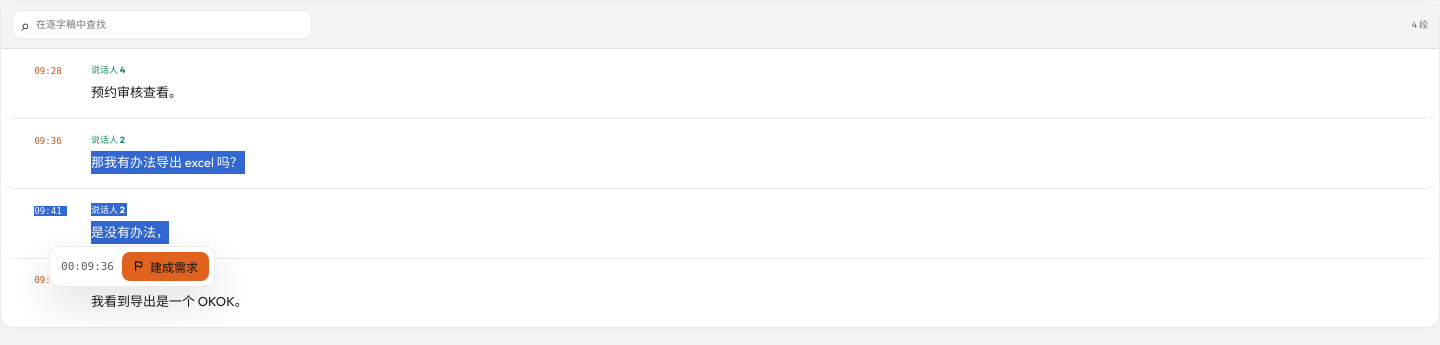
Test: TranscriptPanel 选中一段建成需求（R01-10） › 跨了两句：原话取选中的文字（不带时间和说话人），时间锚取第一句的开始
Check: the element named "选中的原话" shows "00:09:36", box left=61, top=260, right=114, bottom=272
Click the button "建成需求". click: click(166, 266)
box: left=122, top=252, right=209, bottom=280
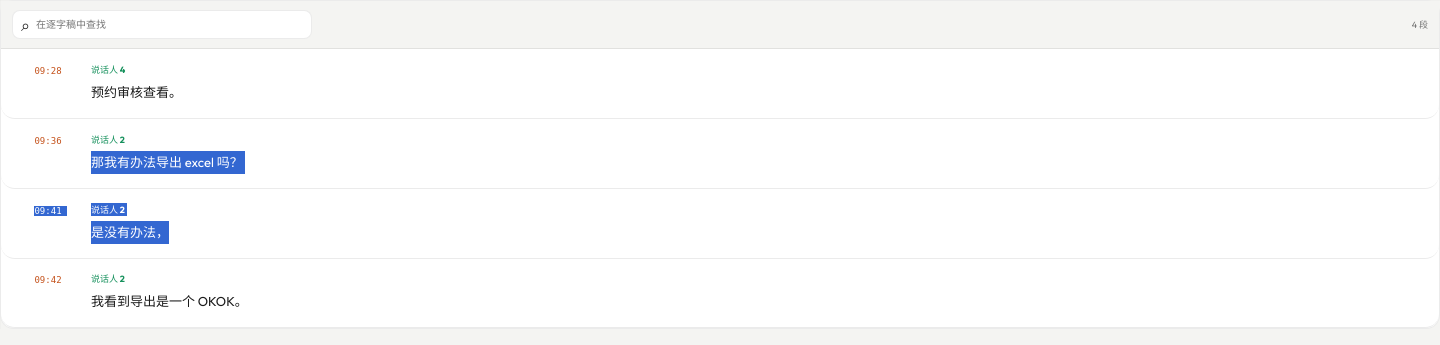
Check: the element "选中的原话" is gone
